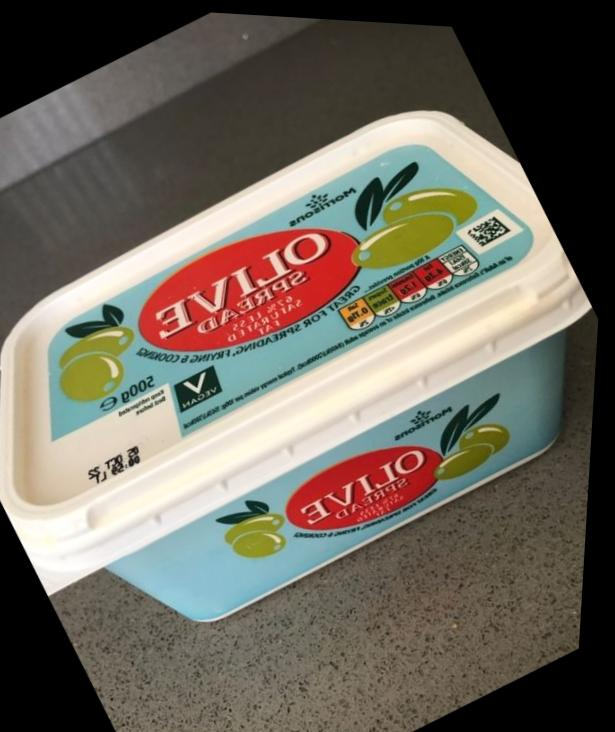plastic: (0, 3, 612, 731)
